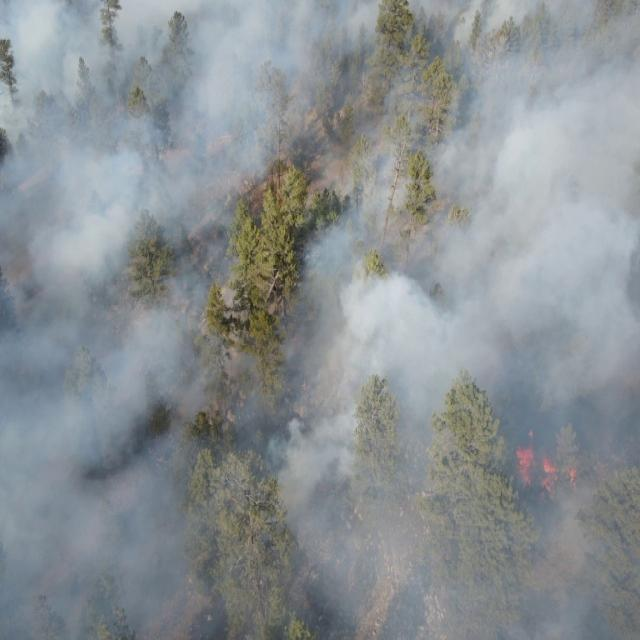fire: (509, 444, 578, 495), (525, 426, 537, 444)
smoke: (1, 0, 640, 640)
